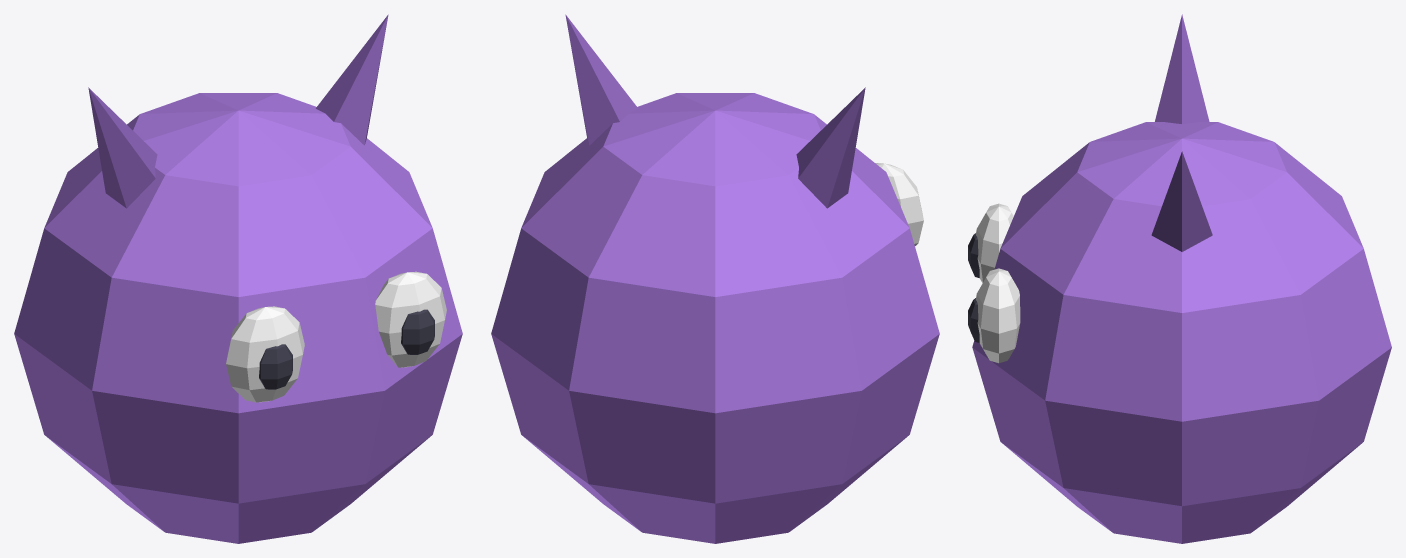
The model's file is copiumoth.glb.
3 views of the same model, side by side, from view 1: azimuth 30°, elevation 25°; view 2: azimuth 150°, elevation 25°; view 3: azimuth 270°, elevation 25° (orthographic). The views are drawn at different scales.
Visible parts, largest first — view 1: copiumoth; view 2: copiumoth; view 3: copiumoth.
Part boxes in pixels (bbox=[...]): copiumoth: bbox=[14, 14, 462, 543]; copiumoth: bbox=[491, 14, 939, 543]; copiumoth: bbox=[968, 14, 1391, 543].
Size of the model in its own units: 0.9699 by 1.15 by 0.9948.
